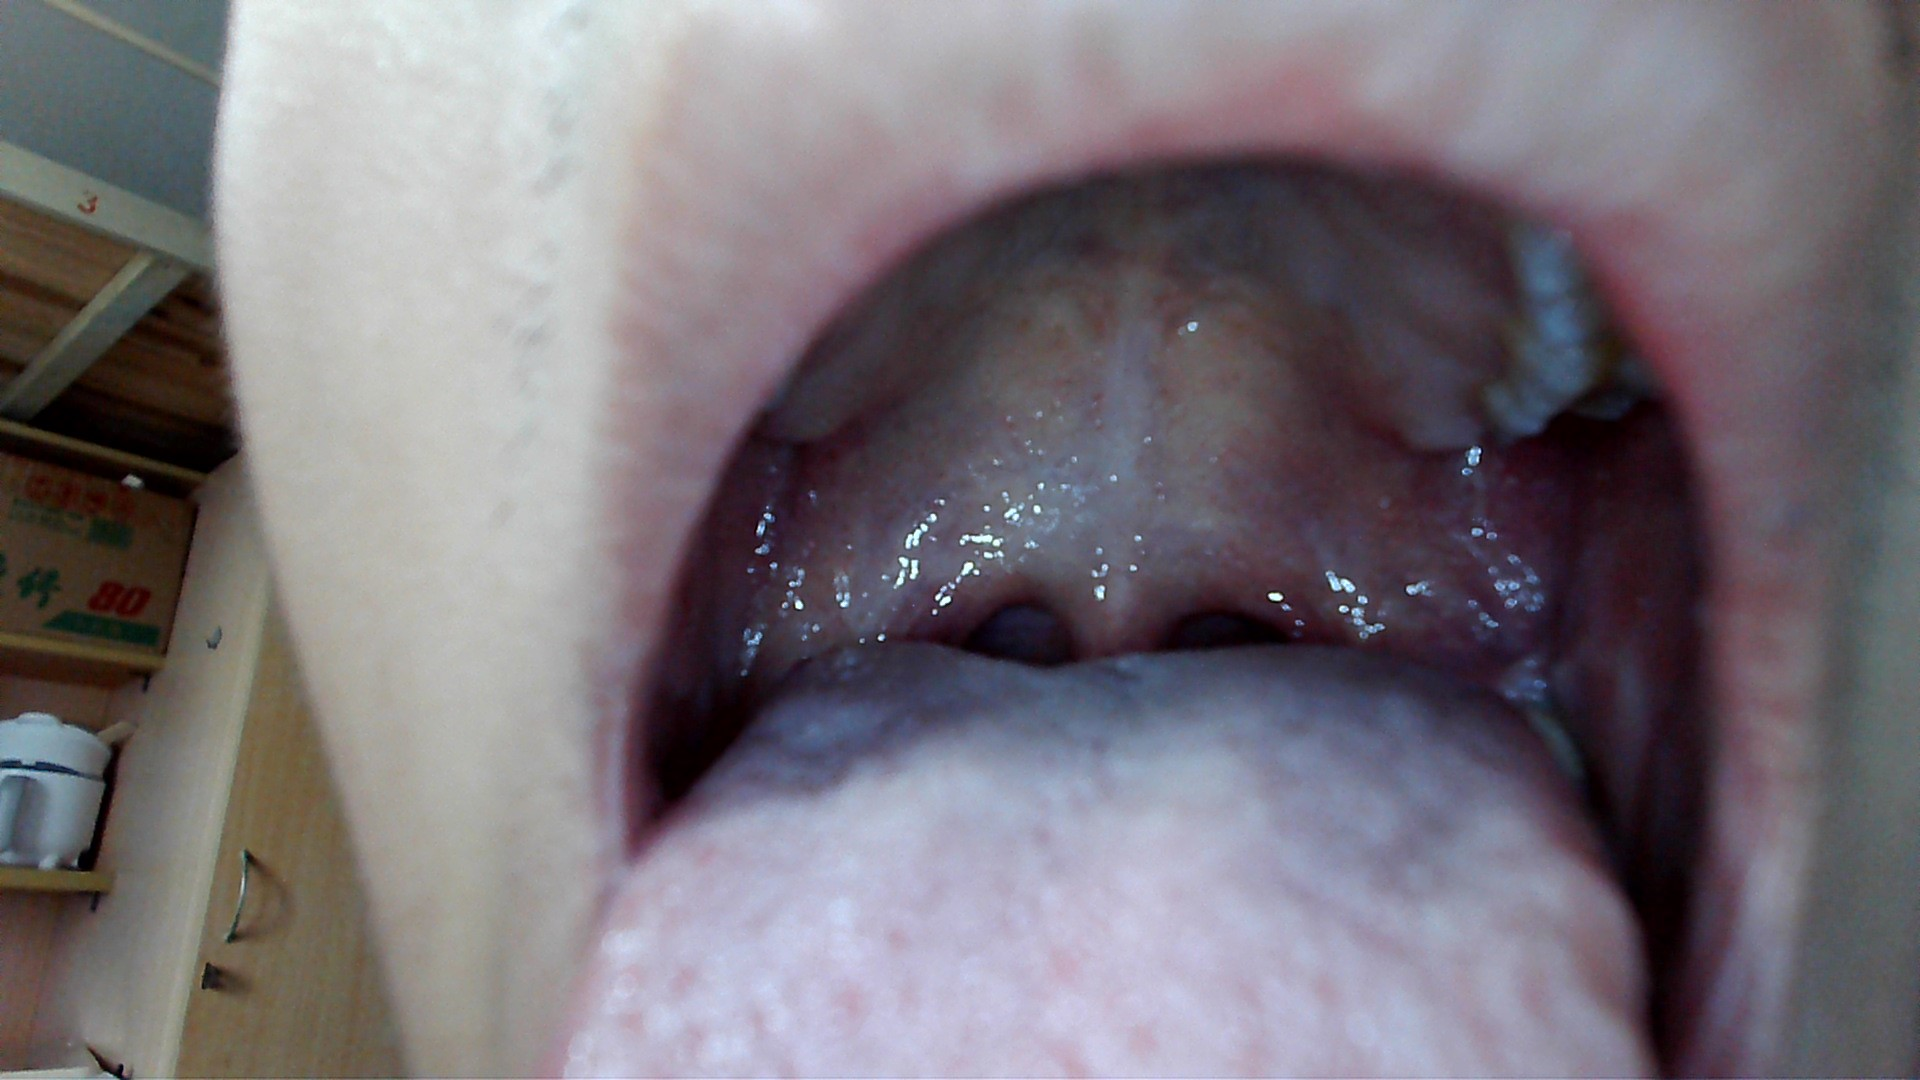throat: (1226, 553, 1406, 655), (890, 560, 1018, 647)
